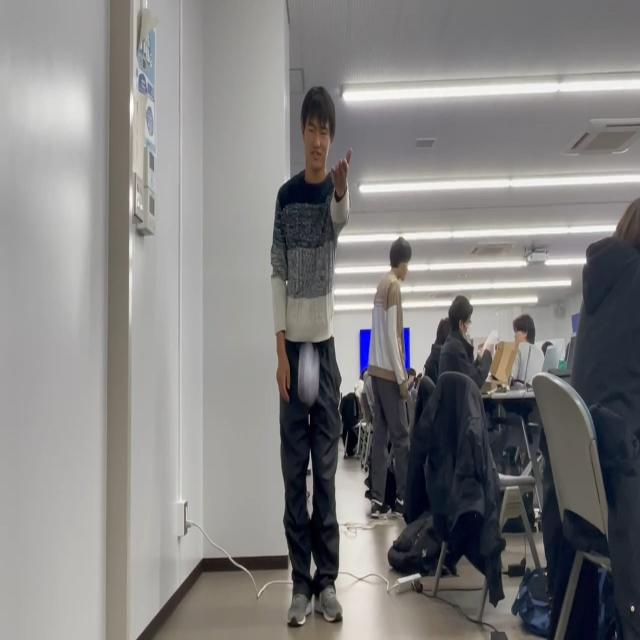paper: (298, 342, 320, 406)
